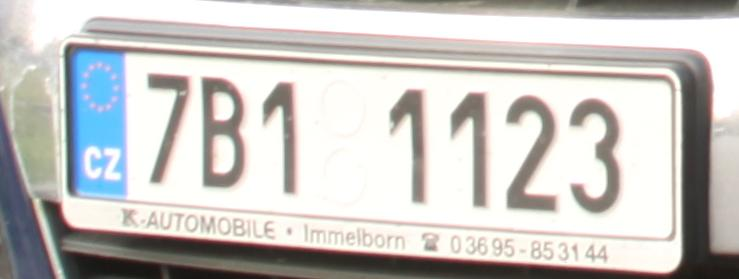1: (451, 92, 489, 206), (389, 87, 426, 204), (263, 82, 297, 194)
2: (506, 96, 557, 210)
3: (569, 98, 619, 211)
7: (145, 73, 190, 183)
B: (200, 78, 244, 186)
